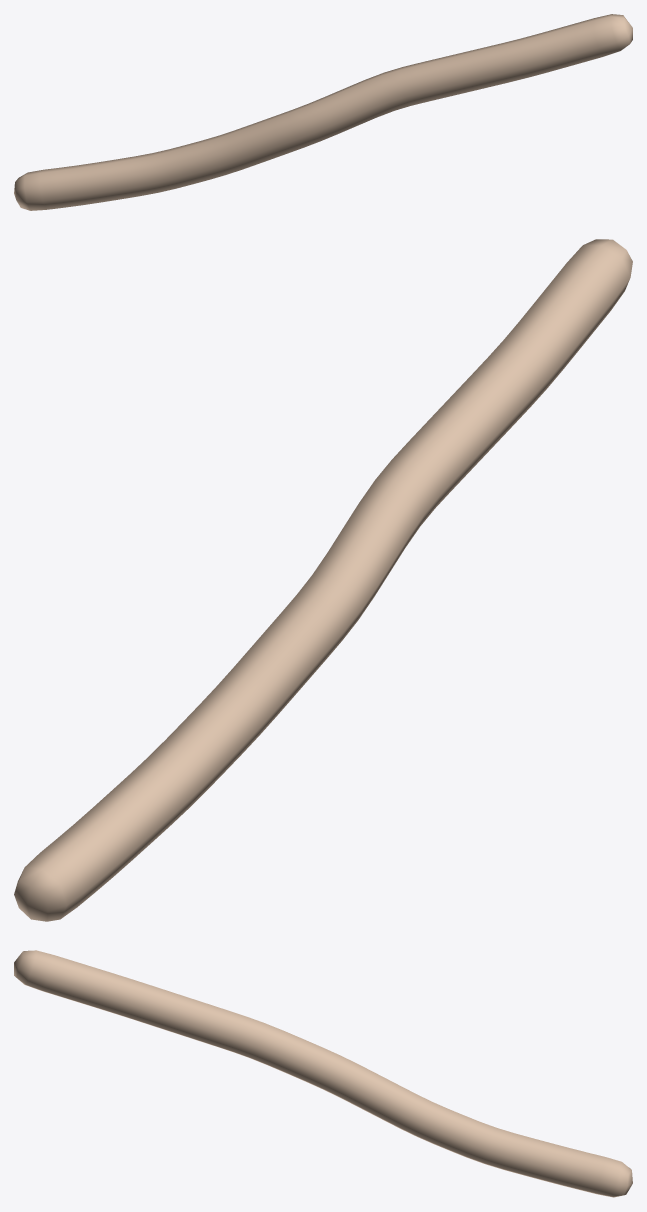
3 renders of one model, top to bottom at view 1: azimuth 90°, elevation 25°; view 2: azimuth 150°, elevation 25°; view 3: azimuth 270°, elevation 25°, orthographic. The views are drawn at different scales.
Visible parts, largest first — view 1: 右侧小指伸肌腱鞘; view 2: 右侧小指伸肌腱鞘; view 3: 右侧小指伸肌腱鞘.
Part boxes in pixels (x1,y1,x2,y2): 右侧小指伸肌腱鞘: [14, 14, 632, 210]; 右侧小指伸肌腱鞘: [14, 239, 632, 921]; 右侧小指伸肌腱鞘: [14, 950, 632, 1197].
Bounding box in the file's own units: 0.0178 × 0.0426 × 0.1092.
